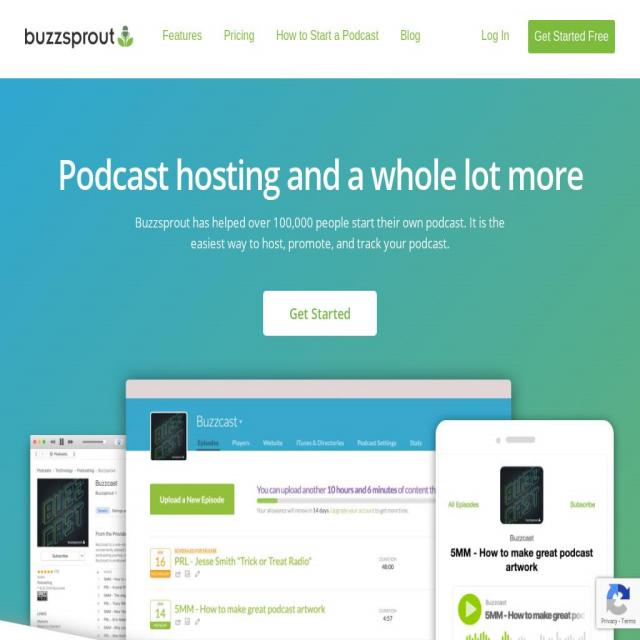login-option: (476, 18, 514, 52)
navigation-links: (152, 16, 428, 56)
